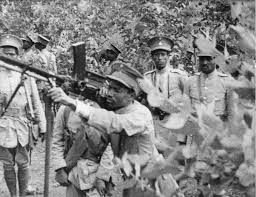gun: (1, 42, 112, 113)
